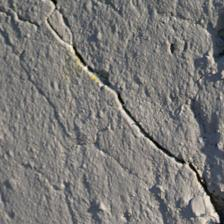Crack: (38, 25, 186, 193)
